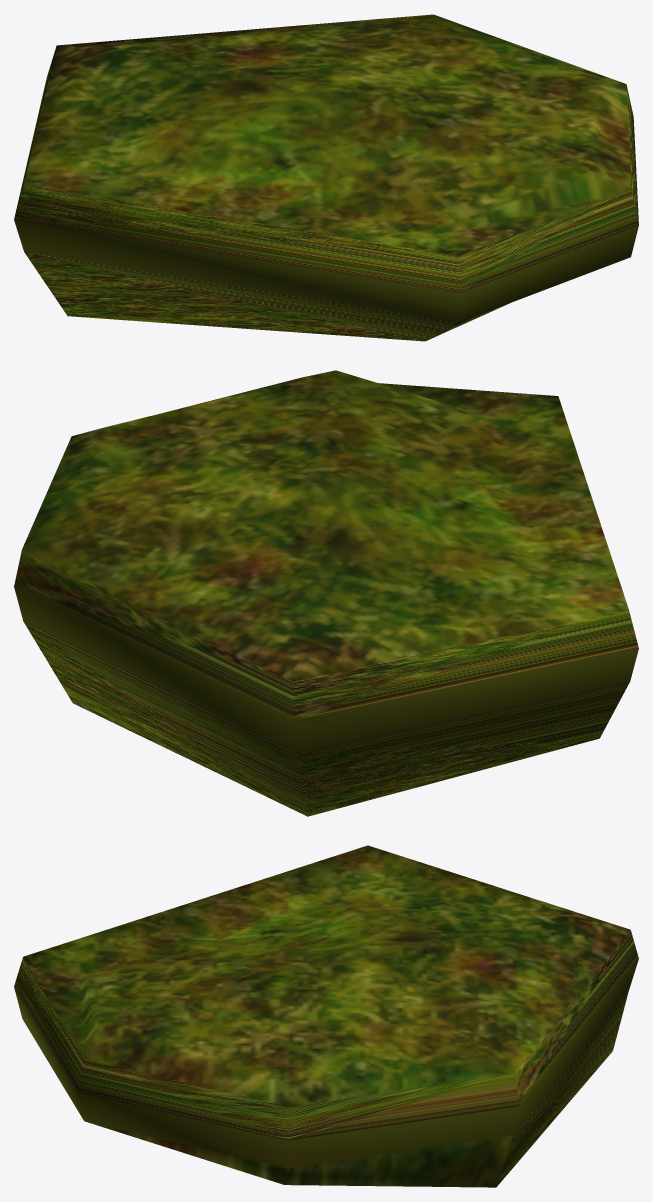
File: TROLLHOLE02_RM_FALL_ROCK08.fbx
3 views of the same model, one above another, from view 1: azimuth 30°, elevation 25°; view 2: azimuth 150°, elevation 25°; view 3: azimuth 270°, elevation 25° (orthographic). The views are drawn at different scales.
Visible parts, largest first — view 1: TROLLHOLE02_RM_FALL_ROCK08; view 2: TROLLHOLE02_RM_FALL_ROCK08; view 3: TROLLHOLE02_RM_FALL_ROCK08.
Part boxes in pixels (x1=…): TROLLHOLE02_RM_FALL_ROCK08: x1=14, y1=14, x2=638, y2=341; TROLLHOLE02_RM_FALL_ROCK08: x1=14, y1=370, x2=638, y2=816; TROLLHOLE02_RM_FALL_ROCK08: x1=14, y1=845, x2=638, y2=1187.
Size of the model in its own units: 27049 by 9597 by 27133.
1 material, 1 textured.
